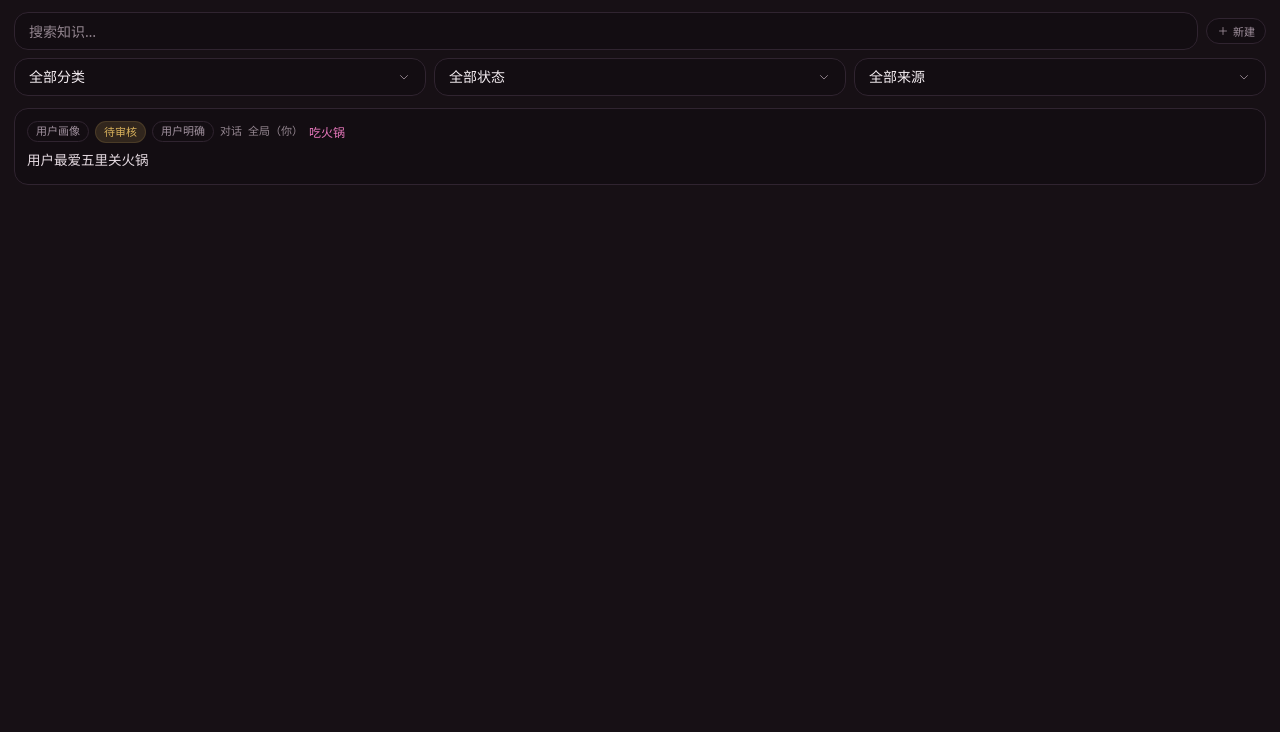
Test: KnowledgePanel 草稿化编辑（§6 关键要求） › 保存失败：草稿与可读错误都保留
Click the button "用户画像 待审核 用户明确 对话 全局（你） 吃火锅 用户最爱五里关火锅" at (58, 132), box x1=14 y1=108 x2=1266 y2=184
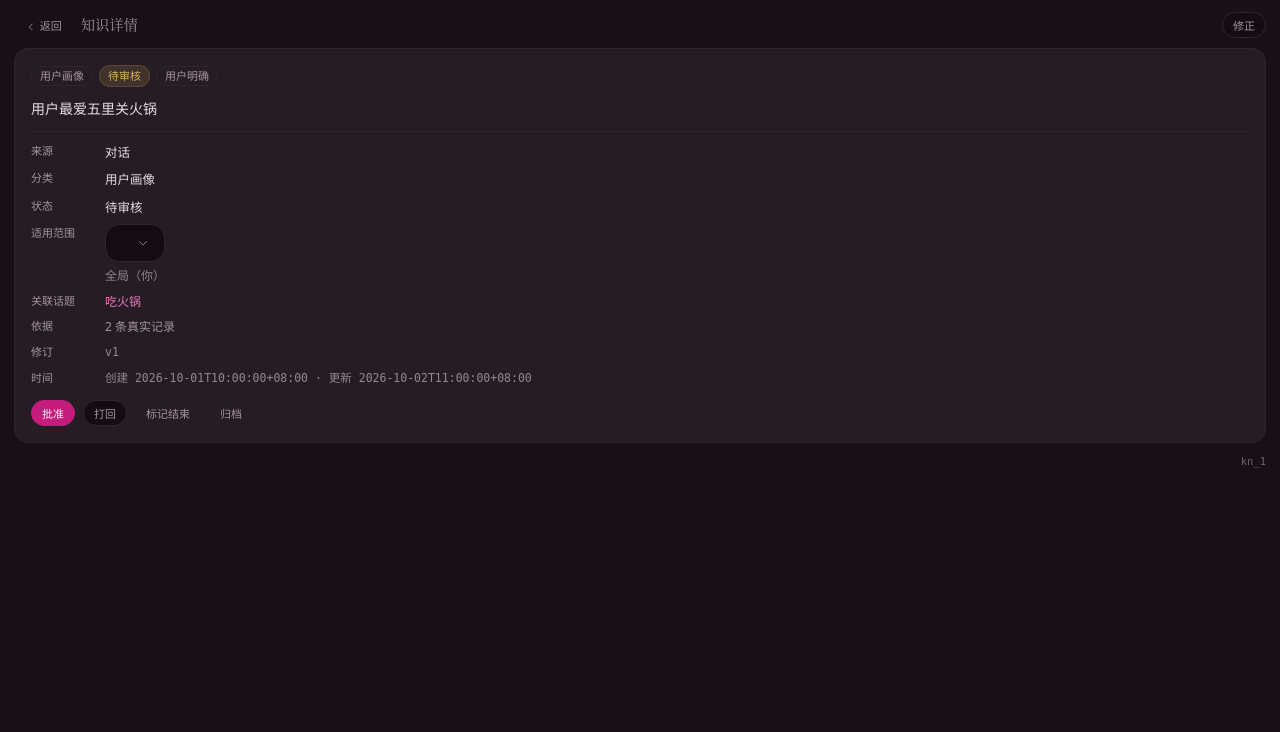
Click the button "修正" at (1244, 25), box x1=1222 y1=12 x2=1266 y2=38
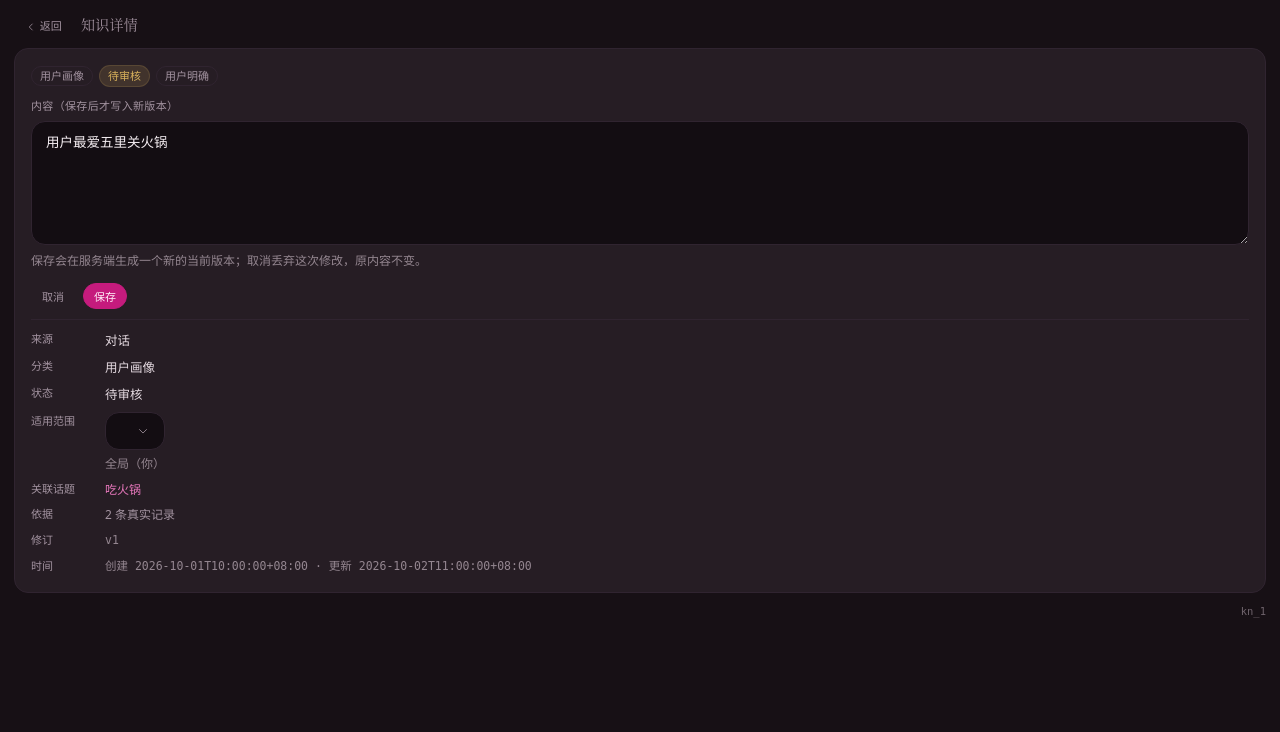
Replace the text in the text box labelled "内容（保存后才写入新版本）" with "用户最爱的是毛肚" at (640, 183), box x1=31 y1=121 x2=1249 y2=245
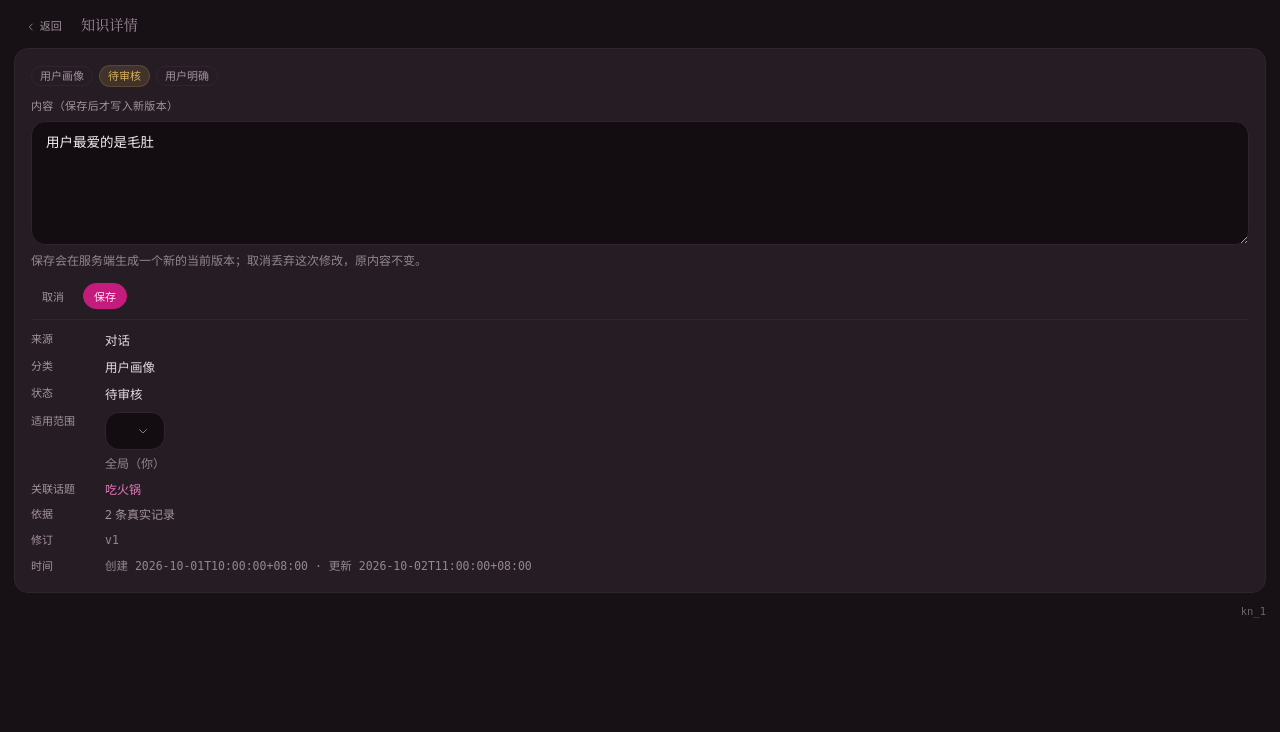
Click the button "保存" at (105, 296), box x1=83 y1=283 x2=127 y2=309
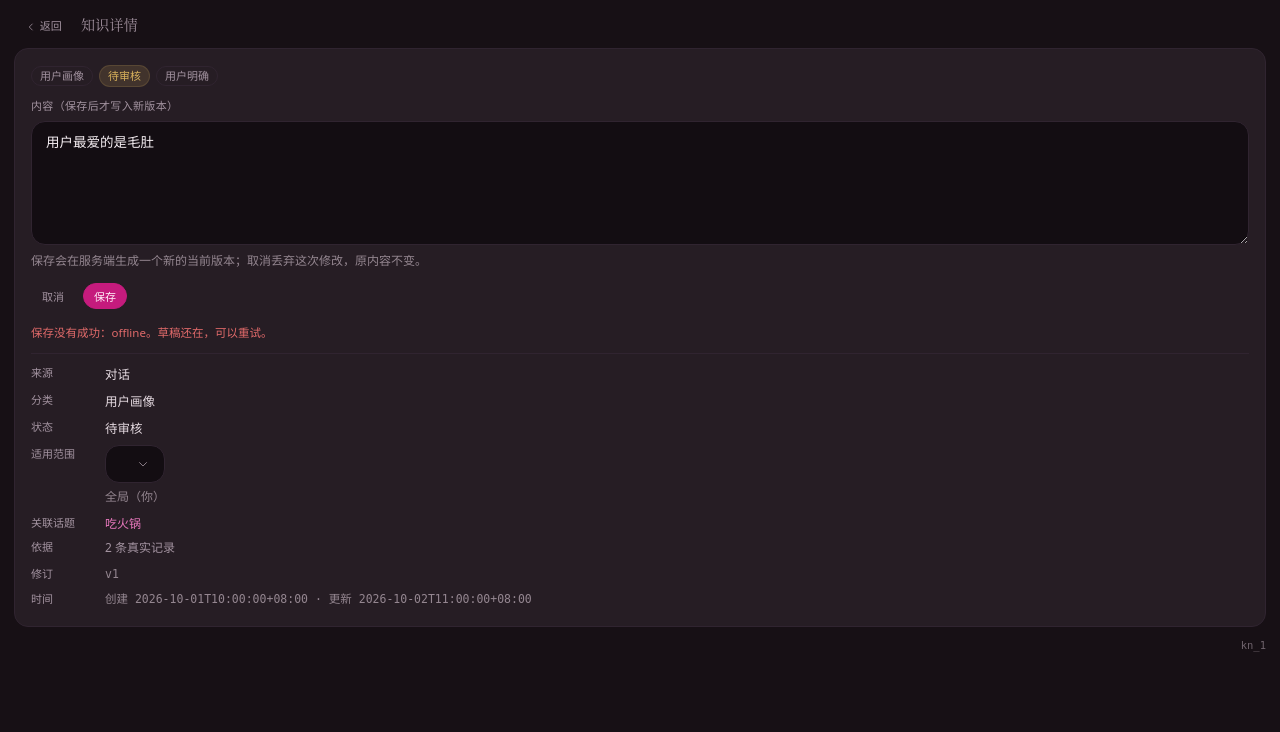
expect the element showing "内容（保存后才写入新版本） 保存会在服务端生成一个新的当前版本；取消丢弃这次修改，原内容不变。" is shown: met, box x1=31 y1=97 x2=1249 y2=271
expect the text "offline" is shown: met, box x1=31 y1=325 x2=272 y2=340
expect the text "草稿还在" is shown: met, box x1=31 y1=325 x2=272 y2=340
